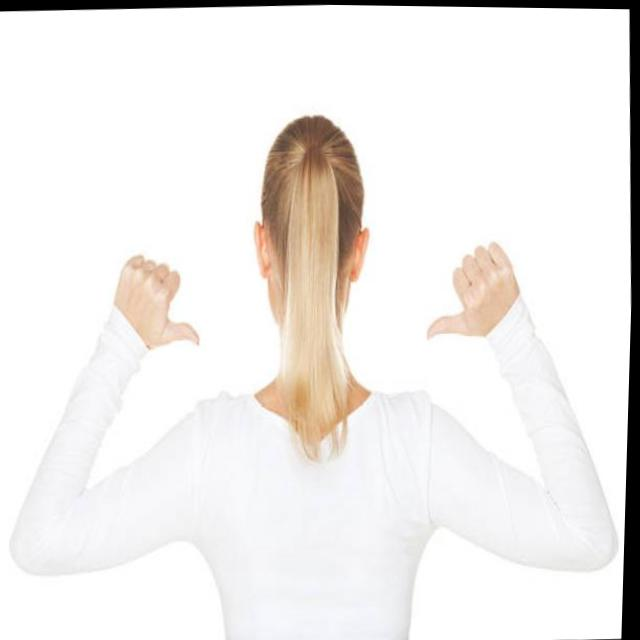no helmet: (229, 104, 396, 412)
